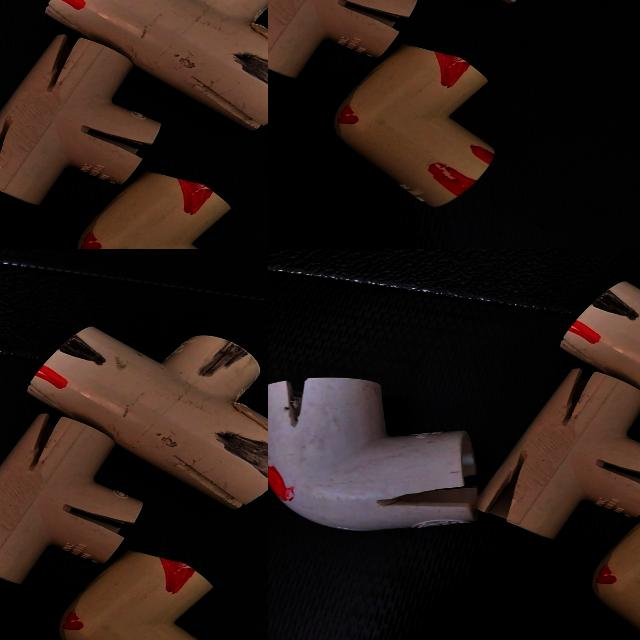Defective: (486, 459, 533, 522), (562, 374, 602, 422), (581, 300, 627, 336), (599, 461, 640, 491), (596, 293, 632, 318), (565, 328, 600, 348), (594, 570, 616, 588)
L Joint: (268, 379, 486, 527), (587, 506, 640, 640)
T Joint: (547, 281, 640, 472)
